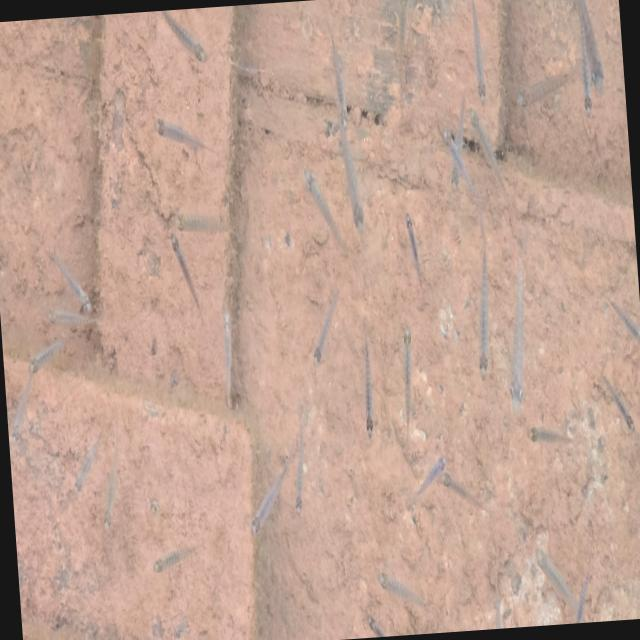Sivrisinek Baligi: (496, 226, 543, 410), (466, 210, 507, 382), (330, 112, 371, 246), (240, 442, 298, 535), (209, 302, 251, 418), (391, 322, 424, 454), (526, 532, 578, 614), (303, 163, 347, 257), (352, 332, 381, 460), (306, 283, 346, 373), (434, 114, 475, 198), (400, 194, 430, 308), (288, 413, 316, 531), (374, 560, 422, 622), (324, 29, 351, 124), (465, 0, 487, 107), (414, 446, 451, 498)
